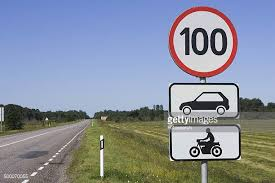Speed_limit_100km: (167, 6, 238, 77)
